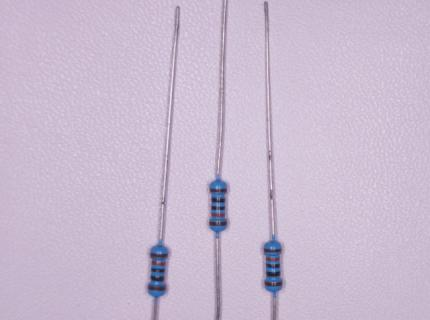Black band: (150, 275, 165, 282), (266, 271, 281, 277), (211, 205, 225, 211), (266, 264, 281, 269), (211, 198, 225, 203), (151, 268, 165, 273)
Brown band: (148, 285, 166, 291), (263, 248, 282, 253), (264, 282, 283, 287), (209, 221, 227, 226), (210, 188, 227, 193), (150, 253, 168, 257)
Orange band: (151, 260, 166, 266), (266, 256, 281, 262), (211, 213, 226, 217)
